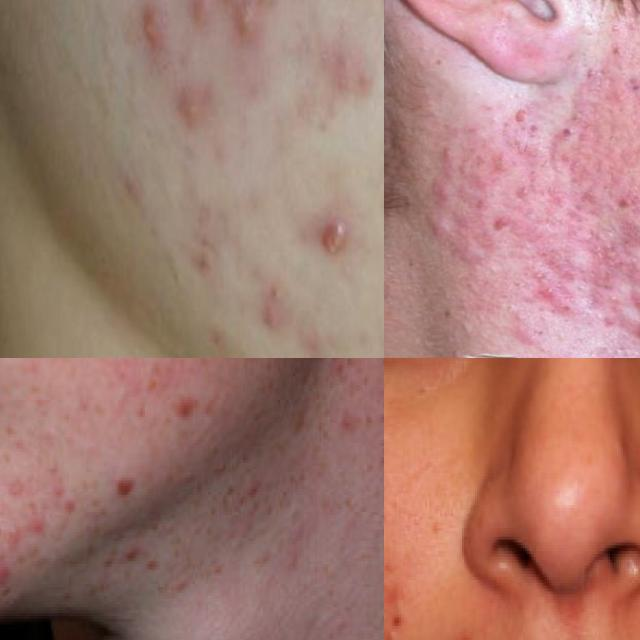papule: (531, 281, 588, 341), (421, 207, 469, 242), (490, 146, 523, 179), (617, 287, 640, 318)
pustule: (304, 193, 368, 280), (128, 2, 176, 58), (232, 0, 260, 42), (258, 0, 279, 12)
